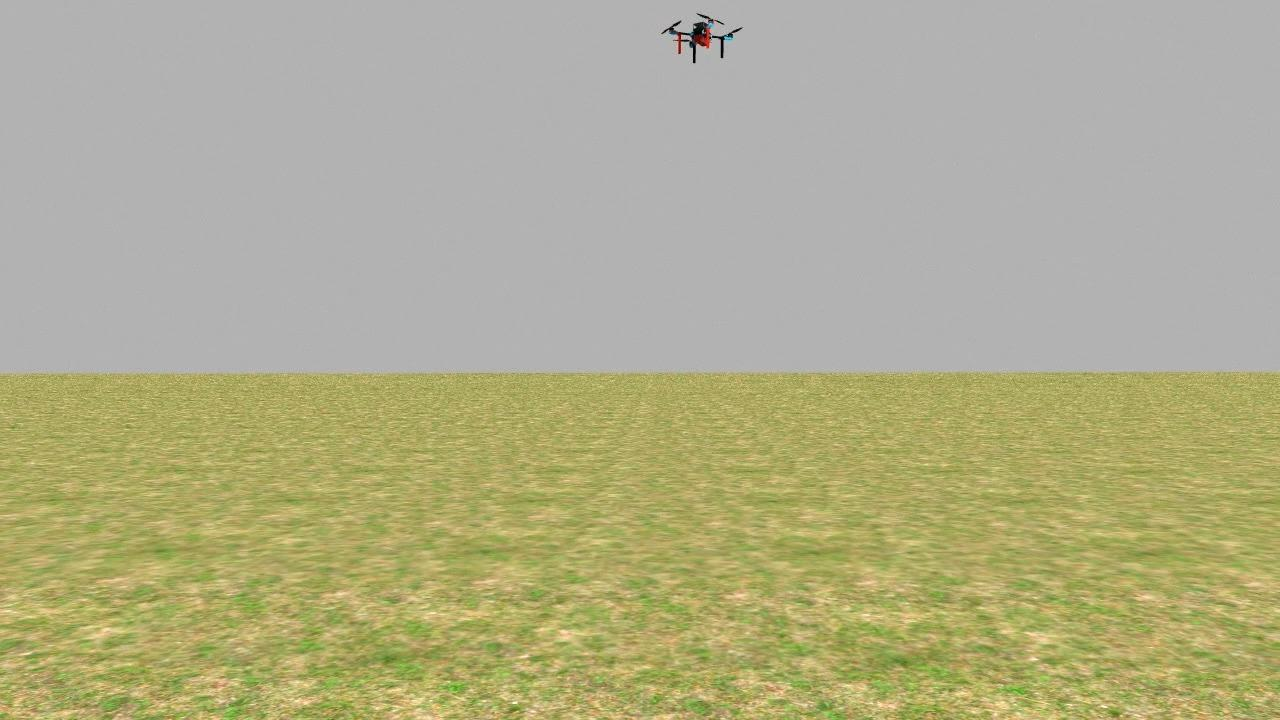UAV: (646, 0, 753, 68)
